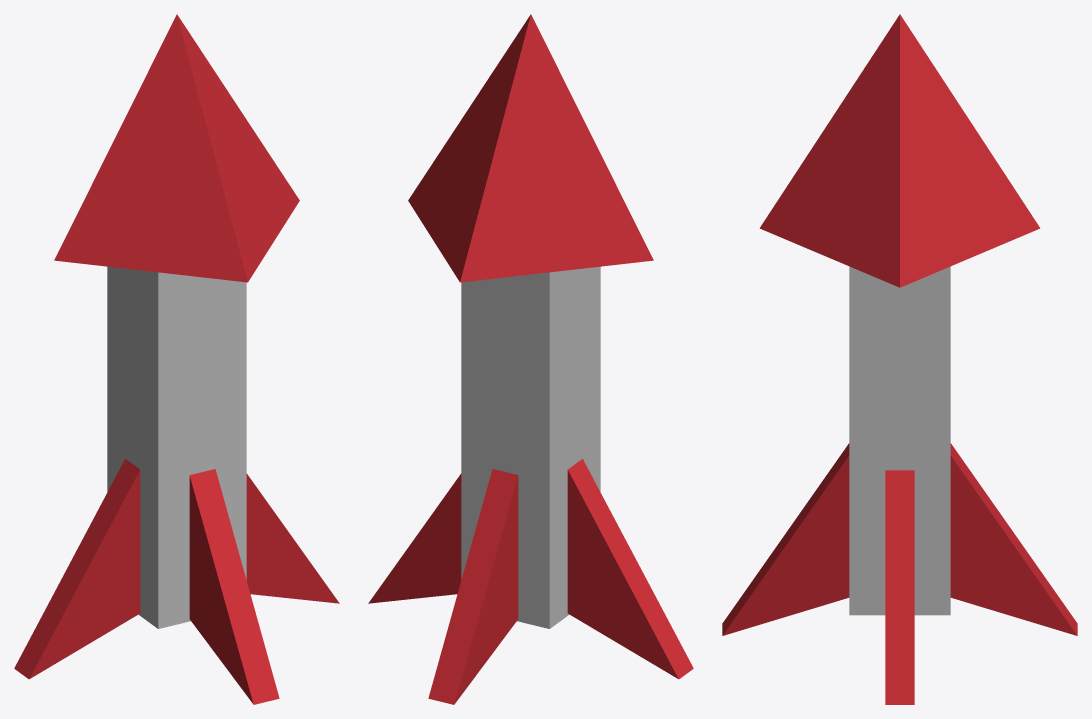
The model's file is MDL_Missile.fbx.
3 views of the same model, side by side, from view 1: azimuth 30°, elevation 25°; view 2: azimuth 150°, elevation 25°; view 3: azimuth 270°, elevation 25° (orthographic).
Visible parts, largest first — view 1: Missile; view 2: Missile; view 3: Missile.
Boxes of the visible parts, left/top/right/bottom form: Missile: left=14, top=14, right=339, bottom=704; Missile: left=368, top=14, right=693, bottom=704; Missile: left=722, top=14, right=1077, bottom=704.
Bounding box in the file's own units: 490 × 937 × 490.
